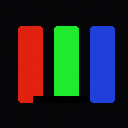3 line_h: (33, 96, 87, 102)
